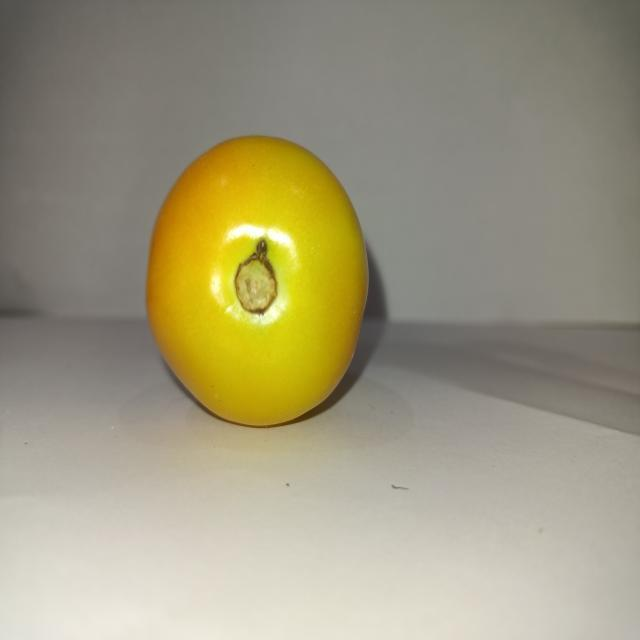Red: (144, 133, 370, 428)
